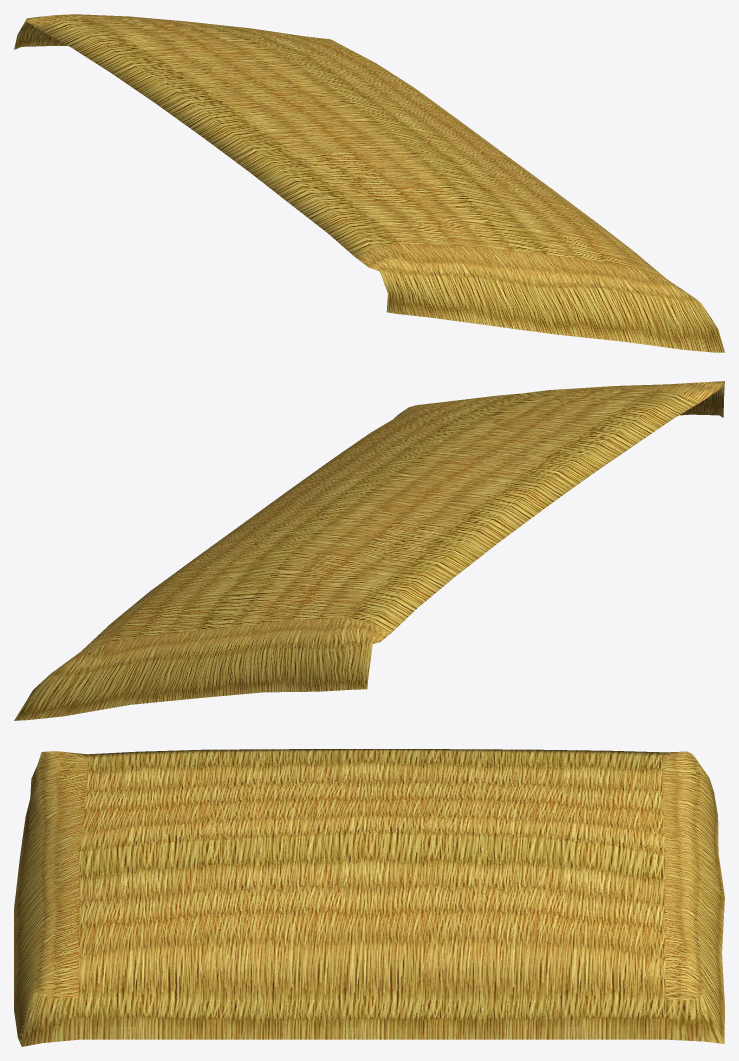
Rendered from HTOWN01_MILLROOF02.fbx.
3 renders of one model, top to bottom at view 1: azimuth 30°, elevation 25°; view 2: azimuth 150°, elevation 25°; view 3: azimuth 270°, elevation 25°, orthographic. The views are drawn at different scales.
Visible parts, largest first — view 1: HTOWN01_MILLROOF02; view 2: HTOWN01_MILLROOF02; view 3: HTOWN01_MILLROOF02.
Part boxes in pixels (x1,y1,x2,y2): HTOWN01_MILLROOF02: (14,14,724,352); HTOWN01_MILLROOF02: (14,381,724,720); HTOWN01_MILLROOF02: (14,749,724,1046).
Bounding box in the file's own units: 74753 × 34145 × 142873.
Materials: 4 (4 with a texture image).
